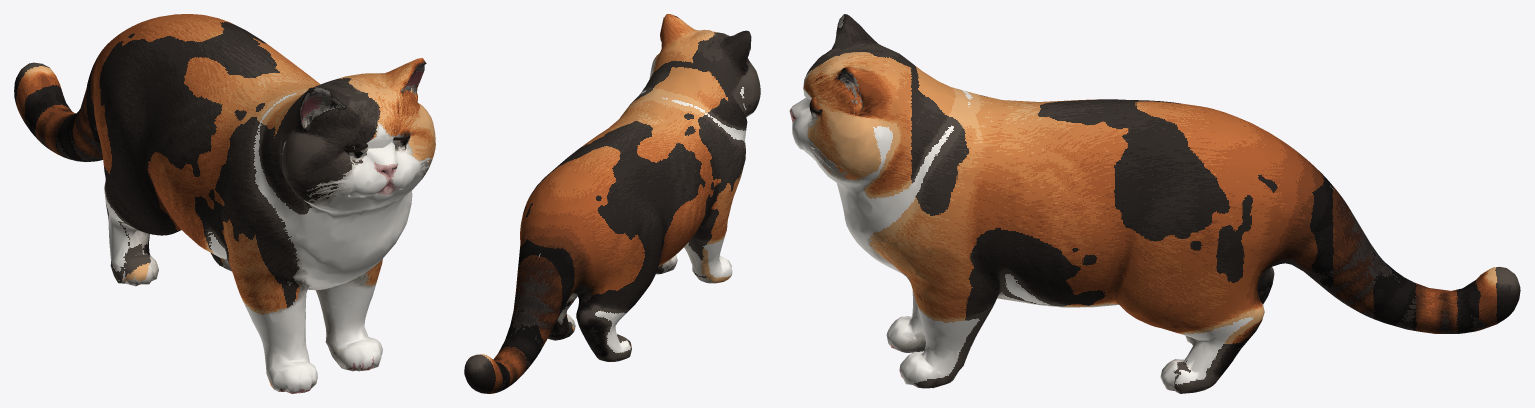
Rendered from mikan.glb.
3 renders of one model, left to right at view 1: azimuth 30°, elevation 25°; view 2: azimuth 150°, elevation 25°; view 3: azimuth 270°, elevation 25°, orthographic. The views are drawn at different scales.
Parts seen in each view (by area): view 1: mikan; view 2: mikan; view 3: mikan.
Part boxes in pixels (<box>): mikan: <box>14,14,435,393</box>; mikan: <box>464,14,760,393</box>; mikan: <box>789,14,1520,393</box>.
Size of the model in its own units: 0.159 by 0.294 by 0.6003.
Materials: 1 (1 with a texture image).
